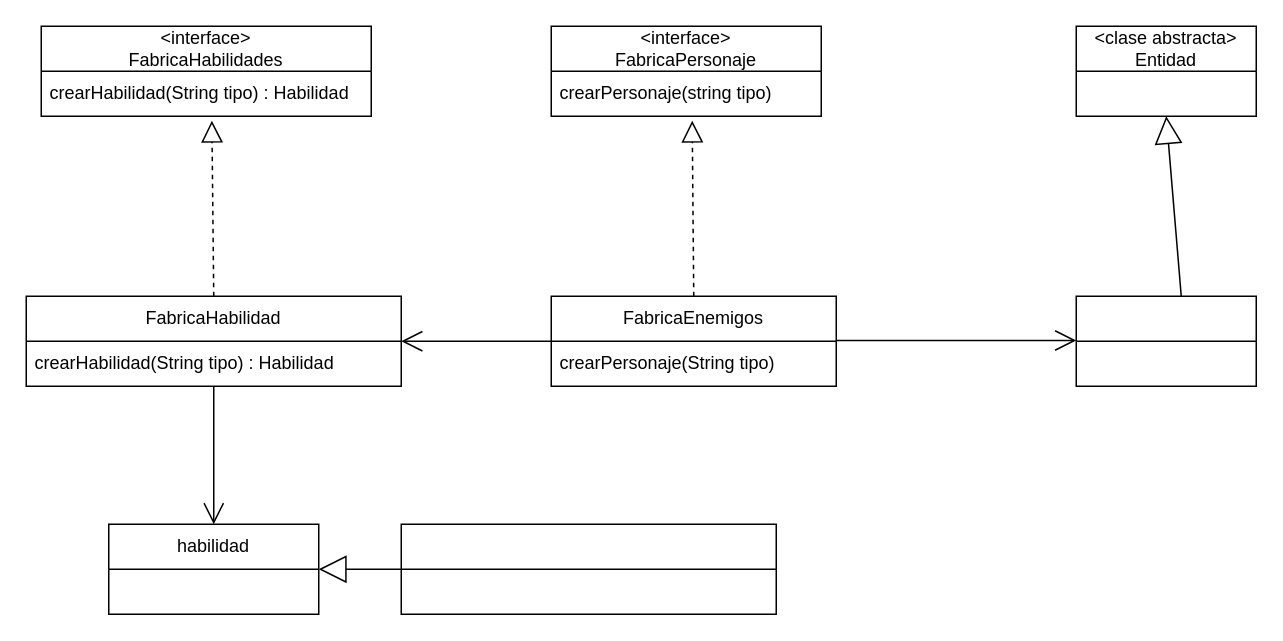
This 1283x641 diagram has some shape labels left out. The centre of each missing label's shape, as x and y in pixels:
"Enemigo" belongs at point 1165,340.
"HabilidadCombate" belongs at point 588,568.
